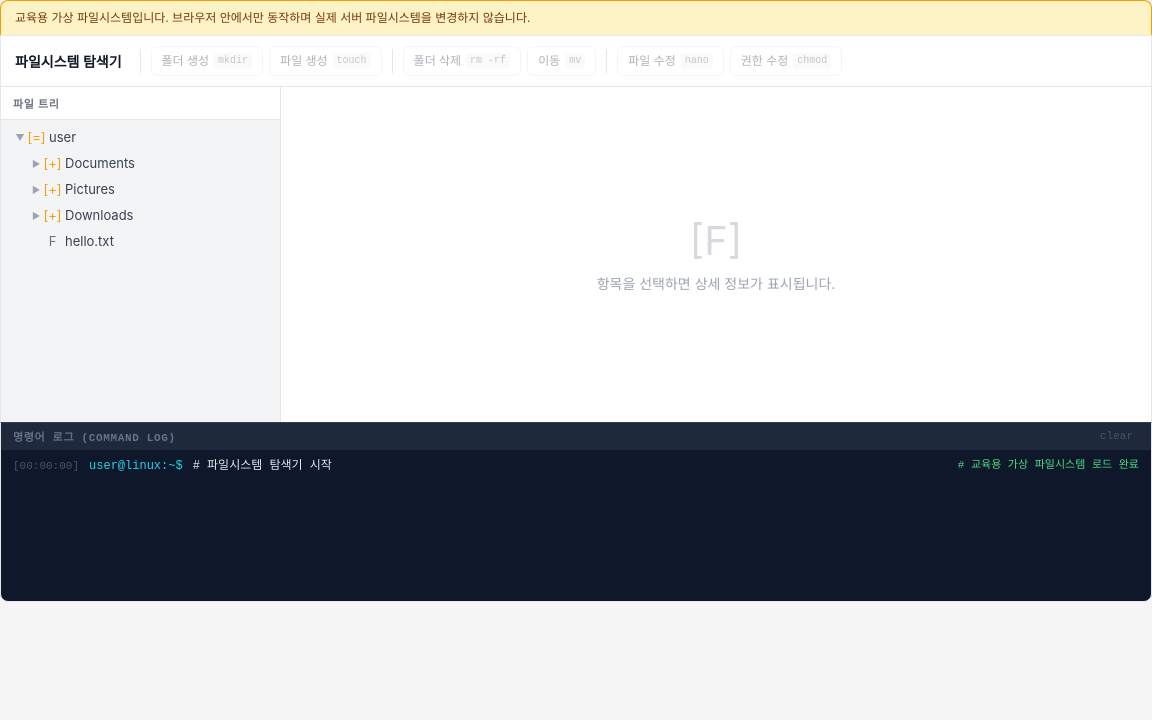
Test case: FilesystemPage educational behaviour › disables every action until an entry is selected
Expected: the button "폴더 생성 mkdir" is disabled, [151, 46, 263, 76]
Expected: the button "파일 생성 touch" is disabled, [269, 46, 382, 76]
Click the text "hello.txt": click(90, 241) [65, 233, 114, 249]
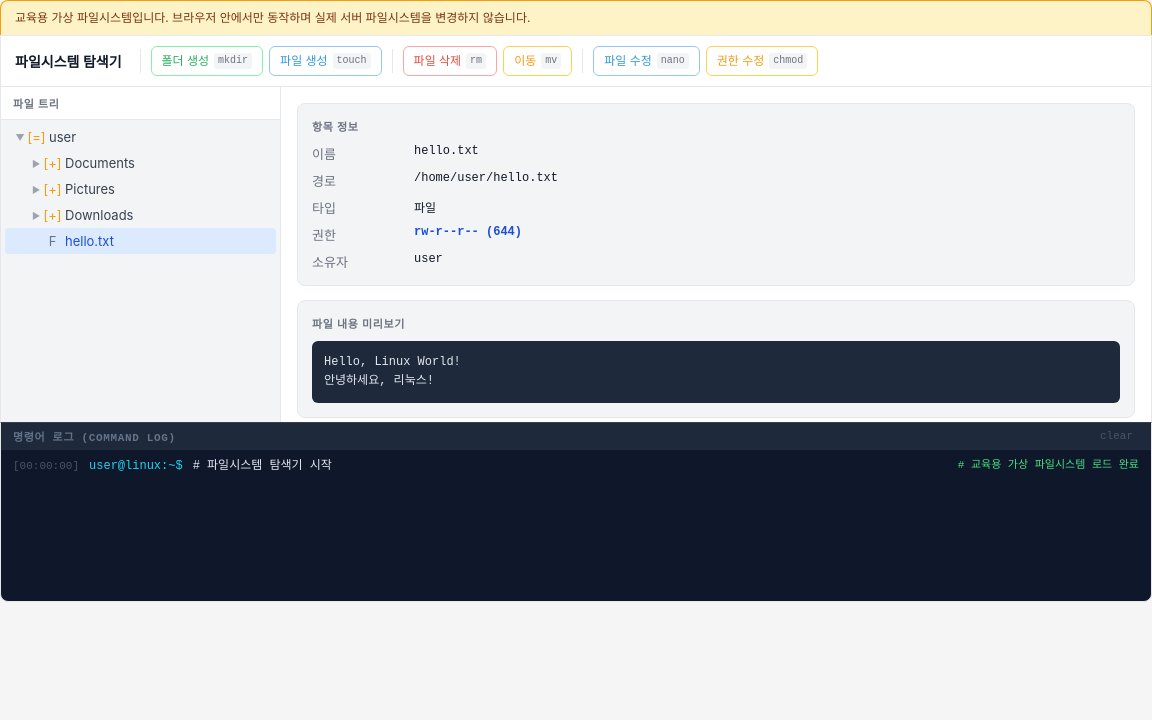
Expected: the button "파일 수정 nano" is enabled, [593, 46, 700, 76]
